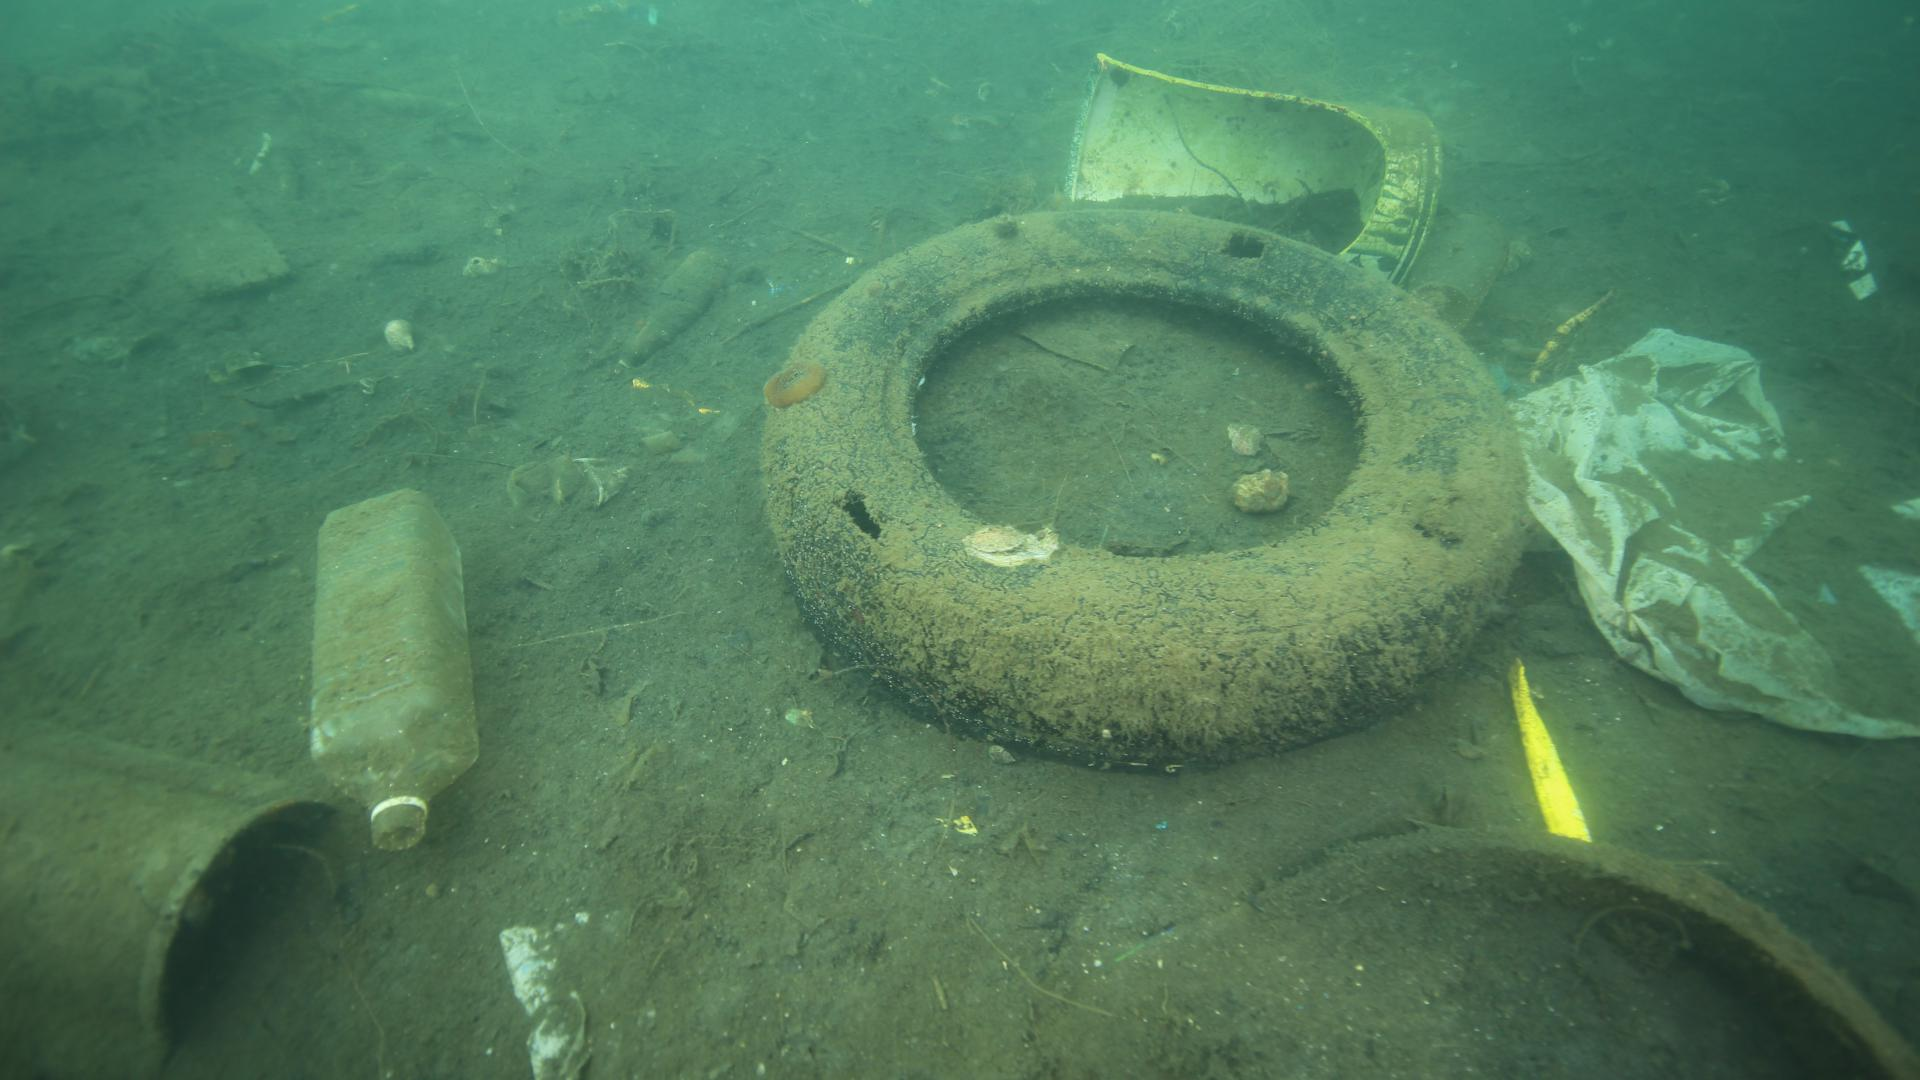tire: (752, 199, 1538, 775)
